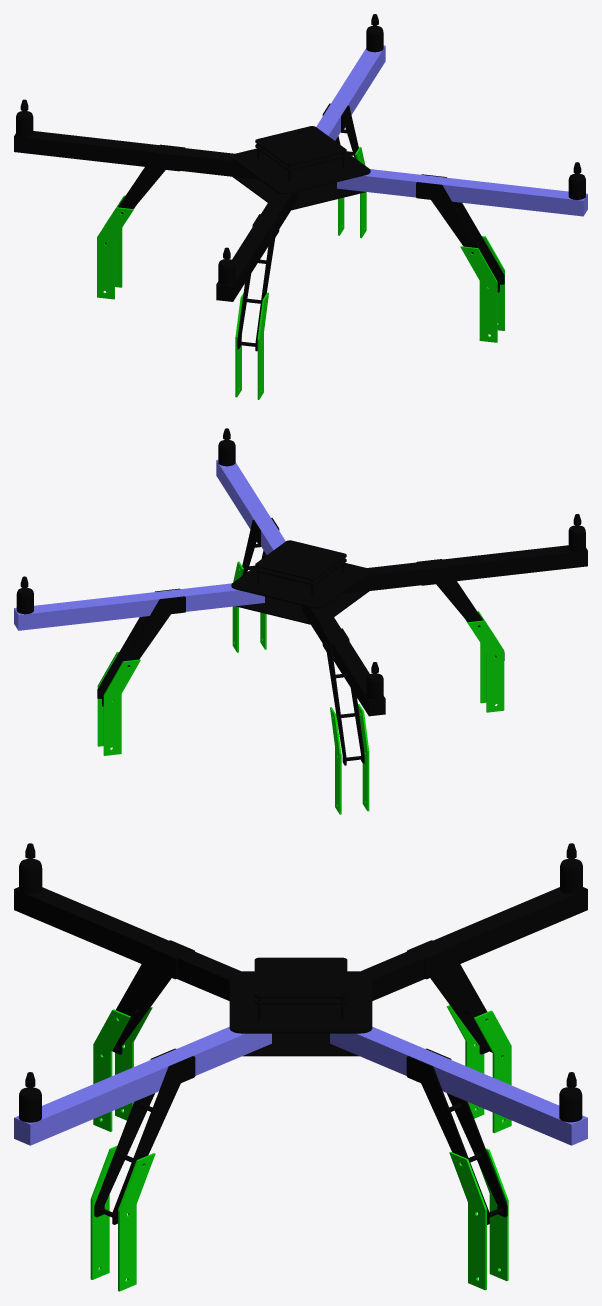
The model's file is 3DR_ArducopterExtendedLegs.dae.
The picture shows the model from 3 angles, top to bottom: view 1: azimuth 30°, elevation 25°; view 2: azimuth 150°, elevation 25°; view 3: azimuth 270°, elevation 25°; orthographic projection. The views are drawn at different scales.
Parts seen in each view (by area): view 1: mesh_1_3DRarducopter_2, mesh_2_Surface-Imported3, mesh_3_NONE; view 2: mesh_1_3DRarducopter_2, mesh_2_Surface-Imported3, mesh_3_NONE; view 3: mesh_1_3DRarducopter_2, mesh_2_Surface-Imported3, mesh_3_NONE.
Boxes of the visible parts, left/top/right/bottom form: mesh_1_3DRarducopter_2: left=14, top=14, right=585, bottom=351; mesh_2_Surface-Imported3: left=316, top=45, right=587, bottom=216; mesh_3_NONE: left=97, top=147, right=504, bottom=399; mesh_1_3DRarducopter_2: left=16, top=428, right=587, bottom=765; mesh_2_Surface-Imported3: left=14, top=459, right=285, bottom=630; mesh_3_NONE: left=97, top=561, right=504, bottom=814; mesh_1_3DRarducopter_2: left=14, top=843, right=587, bottom=1224; mesh_2_Surface-Imported3: left=14, top=1026, right=587, bottom=1145; mesh_3_NONE: left=90, top=1005, right=511, bottom=1291.
Bounding box in the file's own units: 0.4707 × 0.4707 × 0.2206.
